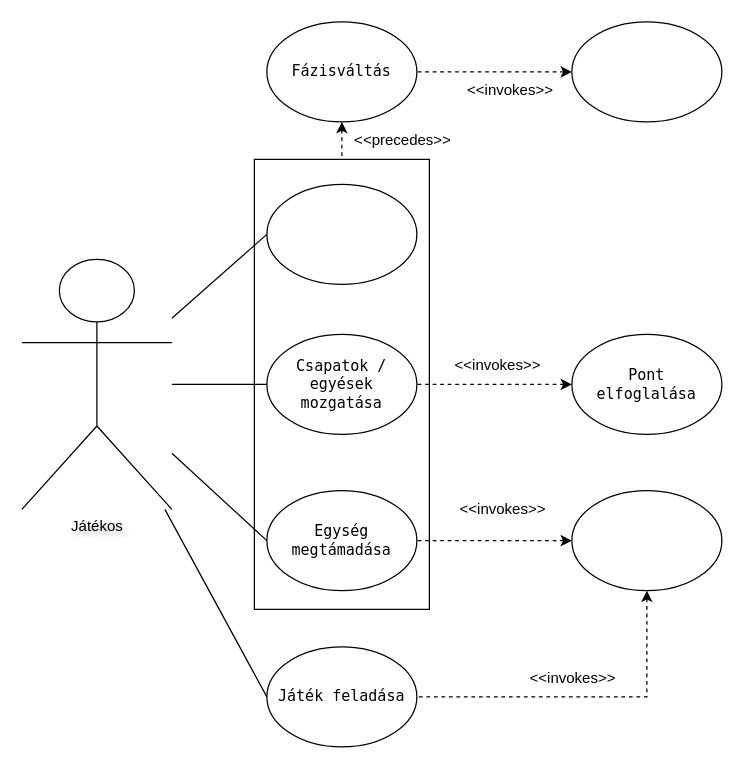
This 744x769 diagram has some shape labels left out. The centre of each missing label's shape, as x and y in pixels:
Játék vége: the point at 646,540
Körváltás: the point at 646,71
Új egység elhelyezése: the point at 341,233
